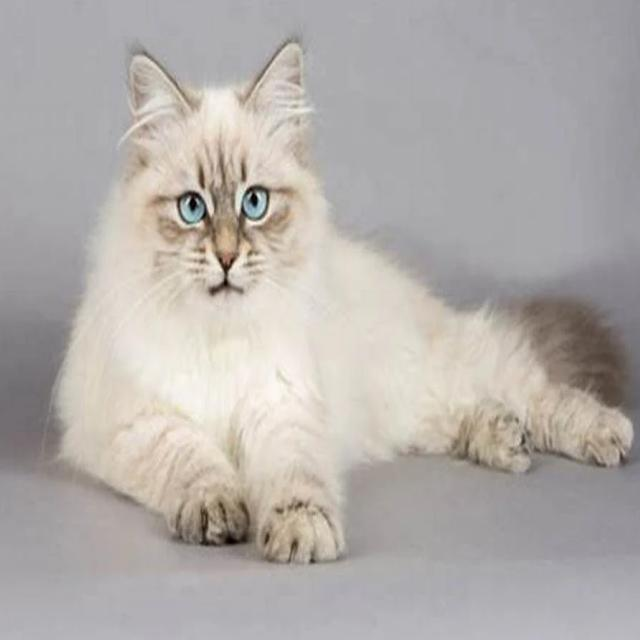Neva Masquerade: (48, 30, 636, 569)
